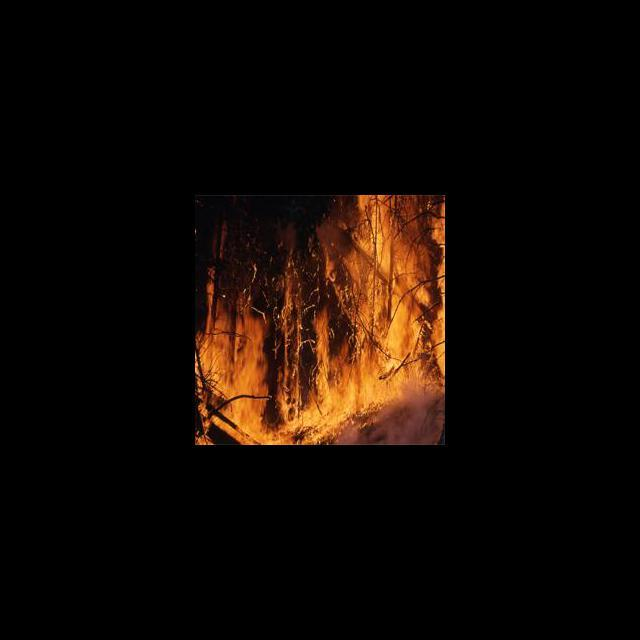Fire: (195, 196, 444, 444)
